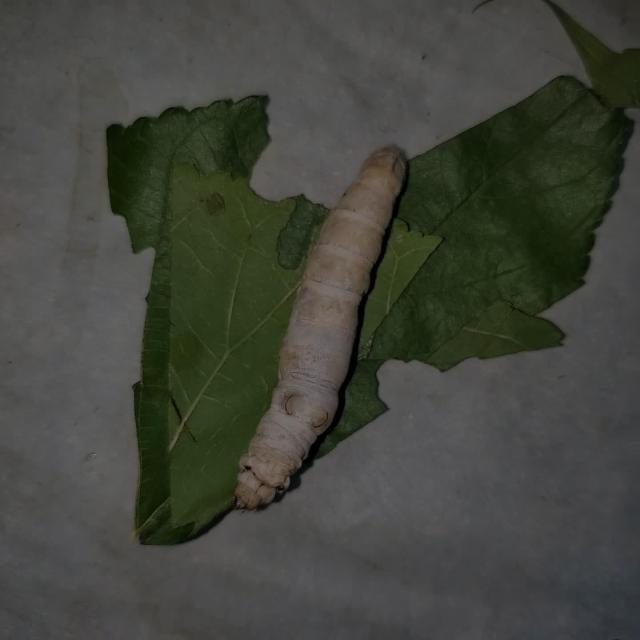Grasserie: (226, 94, 424, 542)
